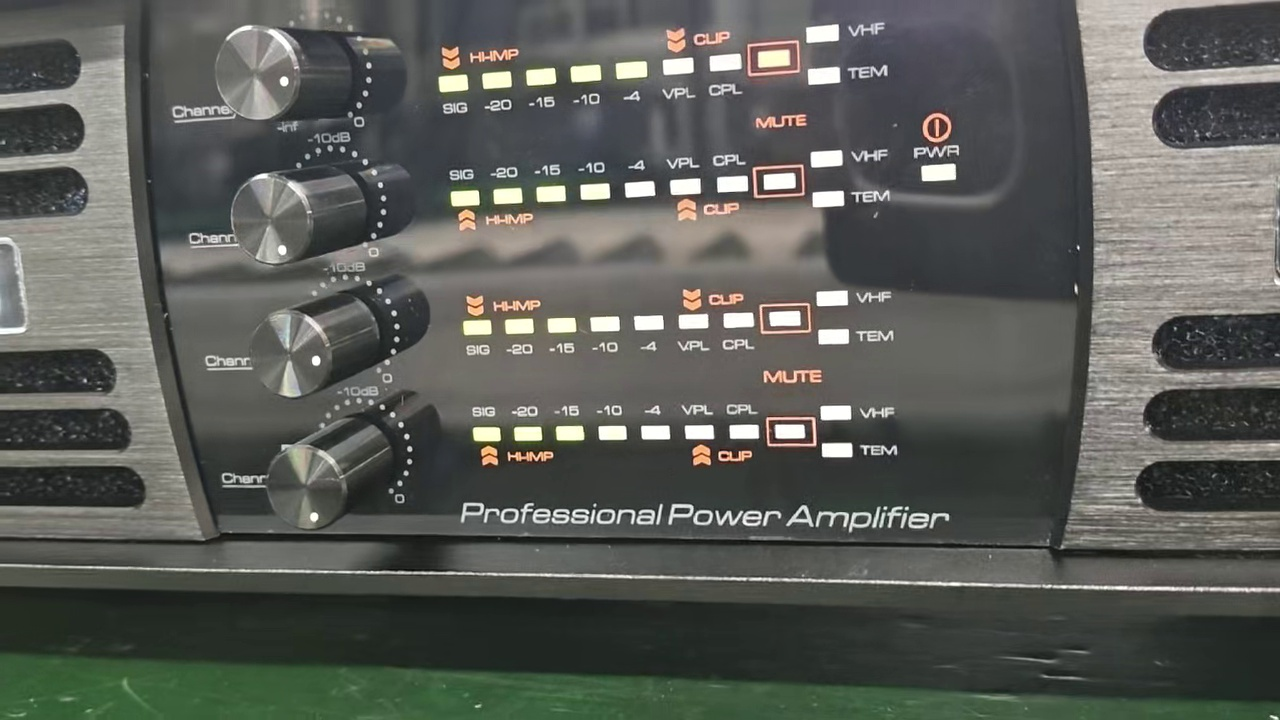FP_CPL: (703, 49, 745, 107), (720, 308, 758, 358), (712, 151, 749, 201), (725, 399, 762, 448)
FP_PWR: (910, 143, 962, 185)
FP_PWR_area: (909, 107, 965, 189)
FP_SIG_area: (432, 18, 909, 115), (440, 147, 892, 232), (466, 394, 907, 472), (458, 284, 900, 358)
FP_VPL: (657, 53, 698, 106), (662, 151, 704, 200), (673, 309, 711, 358), (680, 398, 718, 445)
